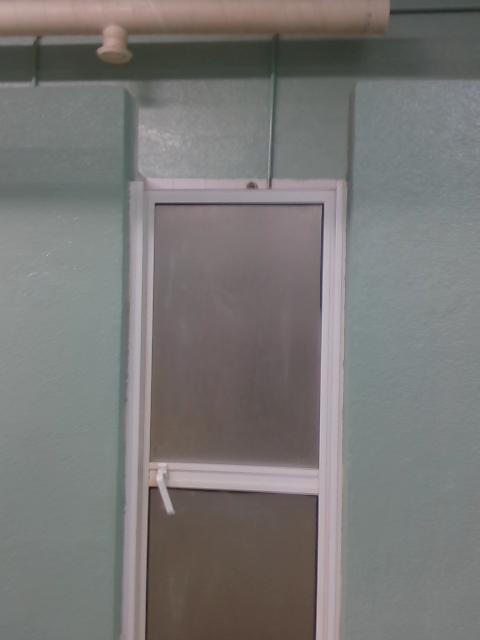door: (137, 190, 336, 640)
